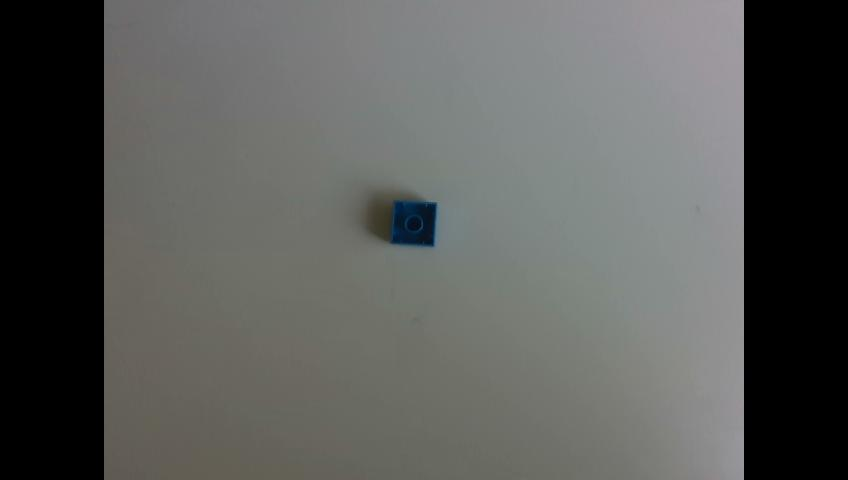2x2_blue: (391, 200, 439, 248)
